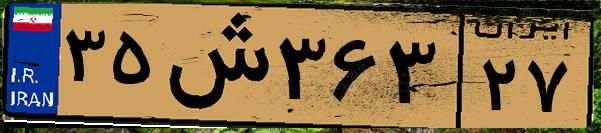2: (475, 38, 525, 113)
3: (270, 28, 330, 110), (385, 28, 445, 110), (57, 26, 110, 100)
5: (110, 28, 158, 98)
6: (330, 28, 385, 110)
7: (525, 38, 570, 115)
ش: (158, 12, 270, 120)
